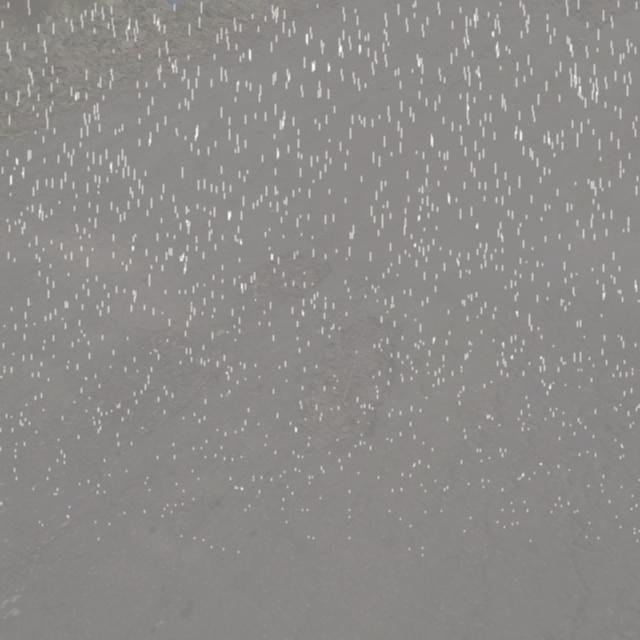Pothole: (290, 299, 424, 457), (232, 245, 347, 306)
